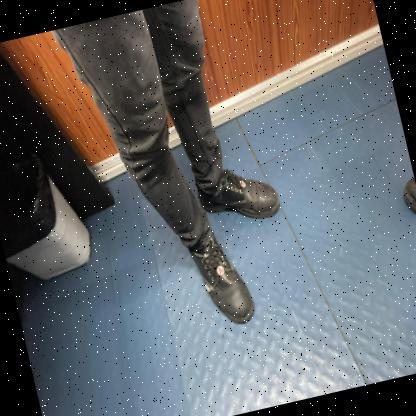bota: (184, 223, 258, 333), (193, 157, 284, 233)
